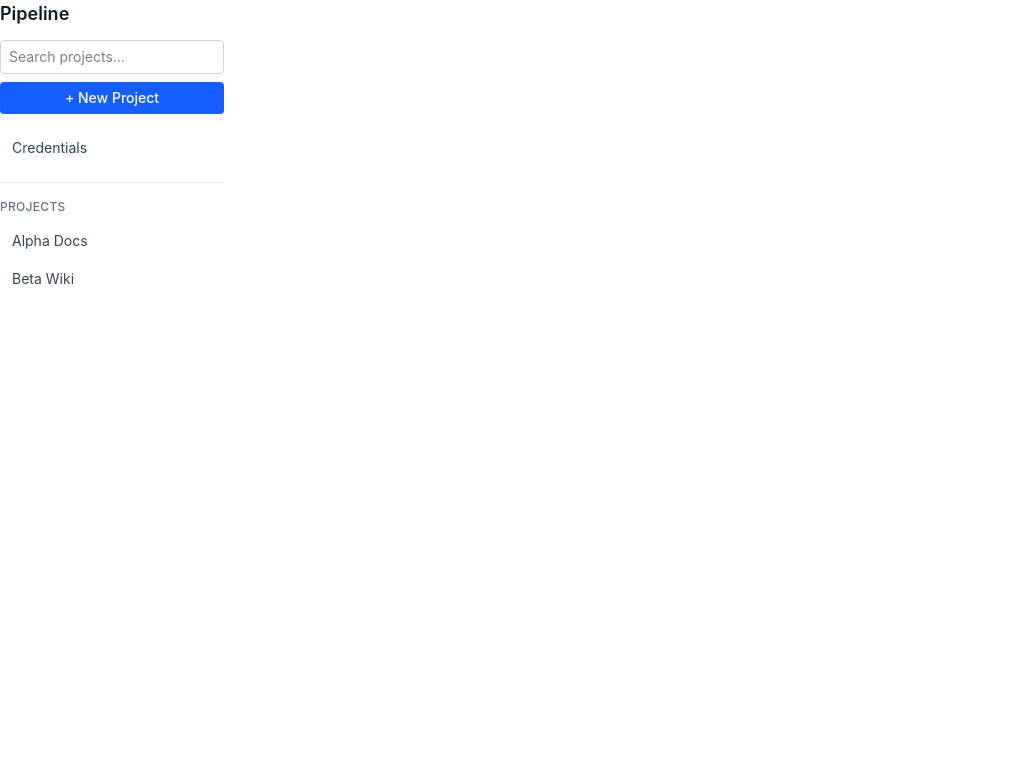
Test: PipelineSidebar › opens new project dialog from sidebar button
Click the button "+ New Project" at (112, 98), box [0, 82, 224, 114]
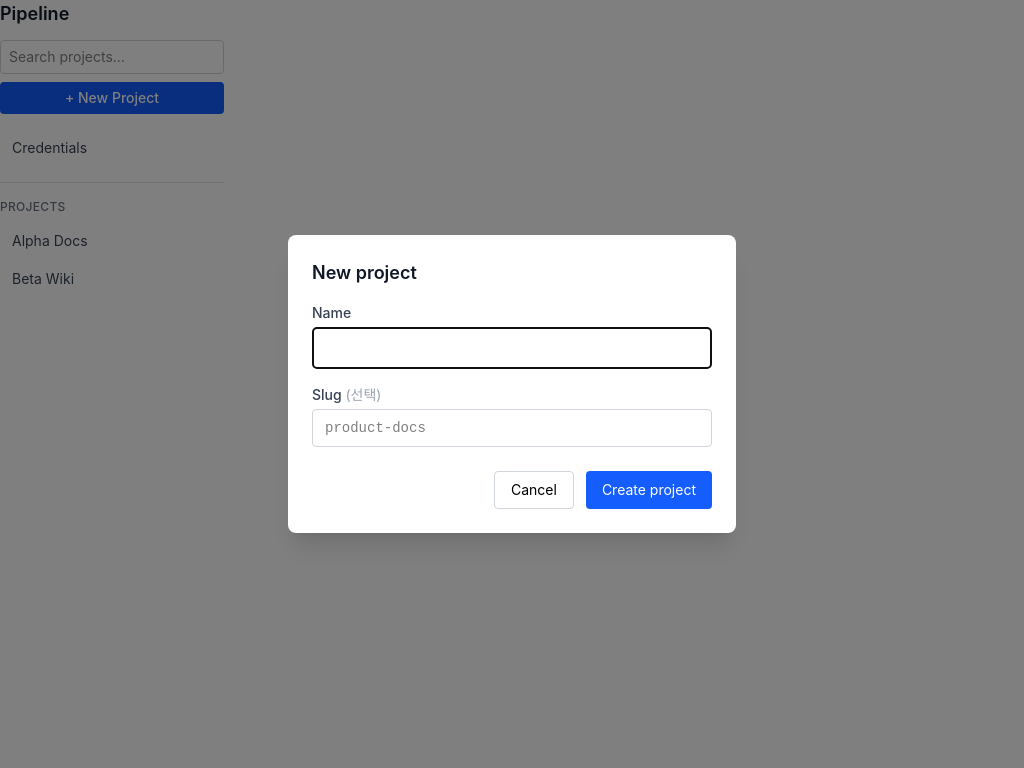
Expected: the dialog is shown, [288, 235, 736, 533]
Expected: the field labelled "Name" is shown, [312, 327, 712, 369]
